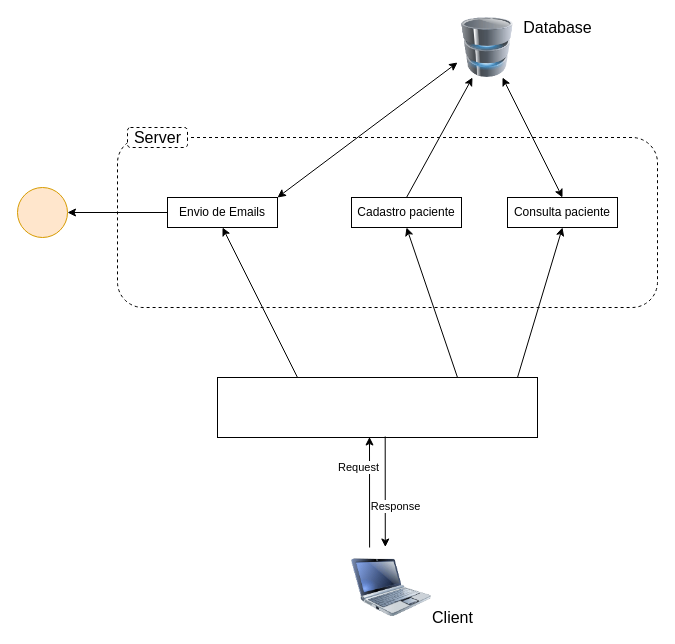
This 675x644 diagram has some shape labels left out. Each missing label, with the centre of its shape:
"API Gateway" goes at point 377,407.
"Emailer" goes at point 42,212.
